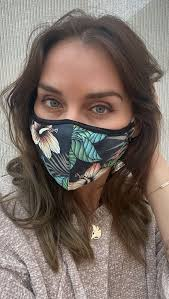mask: (30, 114, 132, 190)
